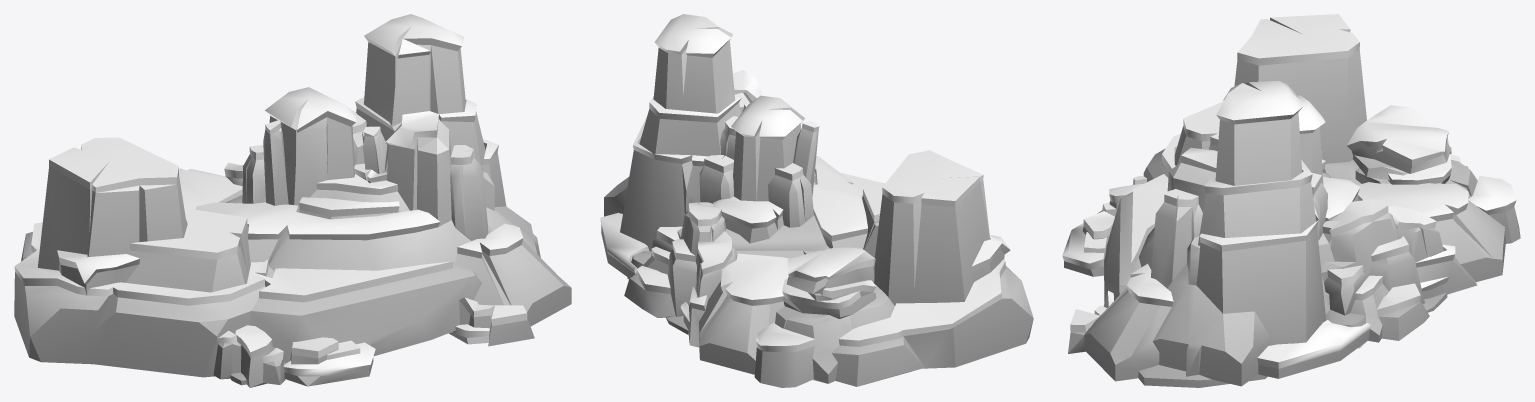
Rendered from Rock_1.fbx.
3 renders of one model, left to right at view 1: azimuth 30°, elevation 25°; view 2: azimuth 150°, elevation 25°; view 3: azimuth 270°, elevation 25°, orthographic. The views are drawn at different scales.
Parts seen in each view (by area): view 1: Rock_1, Rock_1_Snow; view 2: Rock_1, Rock_1_Snow; view 3: Rock_1, Rock_1_Snow.
Boxes of the visible parts, <box> form: Rock_1: <box>14,42,571,387</box>; Rock_1_Snow: <box>14,14,527,376</box>; Rock_1: <box>601,40,1033,387</box>; Rock_1_Snow: <box>600,14,1010,352</box>; Rock_1: <box>1064,49,1520,387</box>; Rock_1_Snow: <box>1062,14,1516,368</box>.
Size of the model in its own units: 26 by 13.2 by 21.15.
